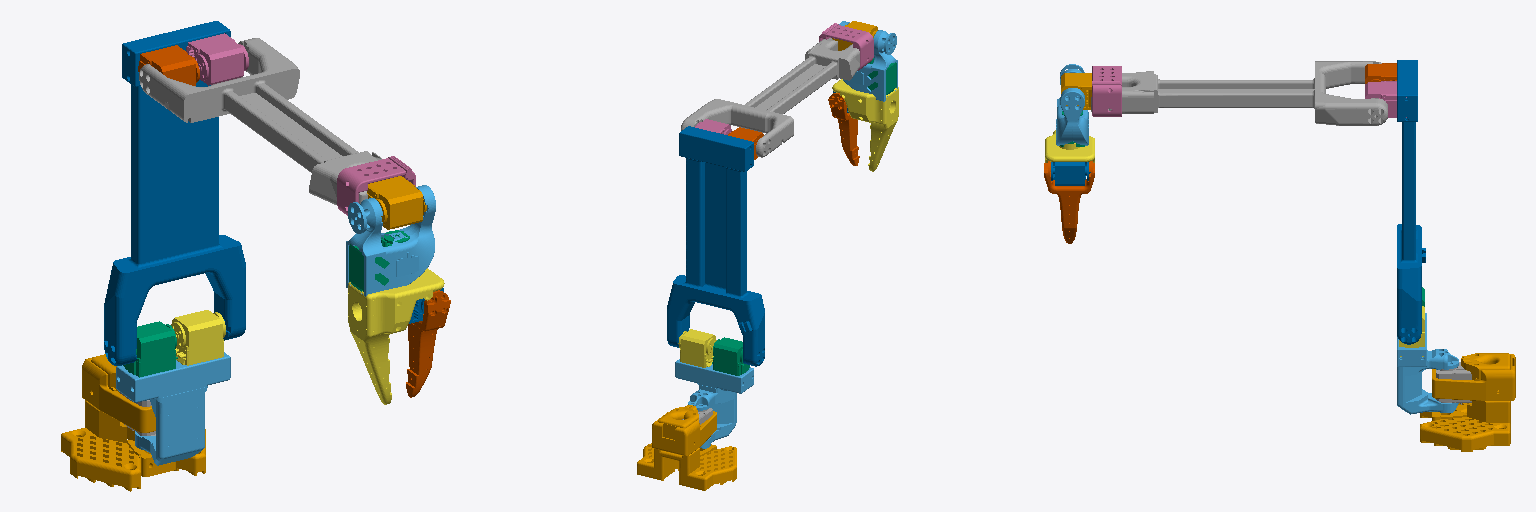
The robot description file, URDF, robot "PingTi_Arm":
<?xml version="1.0" ?>
<robot name="PingTi_Arm">

<material name="silver">
  <color rgba="0.700 0.700 0.700 1.000"/>
</material>

<link name="base_link">
  <inertial>
    <origin xyz="-3.294222799751554e-06 0.8236699206879414 0.07022225351061052" rpy="0 0 0"/>
    <mass value="1.1606702094747876"/>
    <inertia ixx="0.0011816813600861176" iyy="0.0012206576093825297" izz="0.001296311799127925" ixy="-3.3926552274509375e-08" iyz="-0.0002156356566367923" ixz="1.4358649204527133e-07"/>
  </inertial>
  <visual>
    <origin xyz="0 0 0" rpy="0 0 0"/>
    <geometry>
      <mesh filename="meshes/base_link.stl" scale="0.001 0.001 0.001"/>
    </geometry>
    <material name="silver"/>
    <material/>
  </visual>
  <collision>
    <origin xyz="0 0 0" rpy="0 0 0"/>
    <geometry>
      <mesh filename="meshes/base_link.stl" scale="0.001 0.001 0.001"/>
    </geometry>
  </collision>
</link>

<link name="rotation_base_framework1">
  <inertial>
    <origin xyz="-5.9390483128402e-05 -0.03104904373197548 0.03331281167283248" rpy="0 0 0"/>
    <mass value="0.6161657363738509"/>
    <inertia ixx="0.0004327216025152292" iyy="0.0004732006914074296" izz="0.0002414874177193438" ixy="4.6479073398302274e-07" iyz="2.5231853473681176e-05" ixz="-6.728374237754134e-07"/>
  </inertial>
  <visual>
    <origin xyz="0.0 -0.79488 -0.074498" rpy="0 0 0"/>
    <geometry>
      <mesh filename="meshes/rotation_base_framework1.stl" scale="0.001 0.001 0.001"/>
    </geometry>
    <material name="silver"/>
    <material/>
  </visual>
  <collision>
    <origin xyz="0.0 -0.79488 -0.074498" rpy="0 0 0"/>
    <geometry>
      <mesh filename="meshes/rotation_base_framework1.stl" scale="0.001 0.001 0.001"/>
    </geometry>
  </collision>
</link>

<link name="STS3215_rotation_base1">
  <inertial>
    <origin xyz="-0.00012706492472179531 3.433446726930356e-08 0.022398959558418058" rpy="0 0 0"/>
    <mass value="0.2843033831904074"/>
    <inertia ixx="6.153681935691657e-05" iyy="7.348827769135344e-05" izz="3.972527876480725e-05" ixy="-2.948943172986773e-14" iyz="4.015537902191113e-14" ixz="5.5689283665289e-07"/>
  </inertial>
  <visual>
    <origin xyz="0.020561 -0.76183 -0.132098" rpy="0 0 0"/>
    <geometry>
      <mesh filename="meshes/STS3215_rotation_base1.stl" scale="0.001 0.001 0.001"/>
    </geometry>
    <material name="silver"/>
    <material/>
  </visual>
  <collision>
    <origin xyz="0.020561 -0.76183 -0.132098" rpy="0 0 0"/>
    <geometry>
      <mesh filename="meshes/STS3215_rotation_base1.stl" scale="0.001 0.001 0.001"/>
    </geometry>
  </collision>
</link>

<link name="STS3215_rotation_base_21">
  <inertial>
    <origin xyz="0.00012706492472184389 3.432095774247301e-08 0.02239895955841617" rpy="0 0 0"/>
    <mass value="0.2843033831904074"/>
    <inertia ixx="6.153681935691657e-05" iyy="7.348827769135171e-05" izz="3.972527876475174e-05" ixy="-2.9488564368129744e-14" iyz="-4.01276234462955e-14" ixz="-5.568928366526732e-07"/>
  </inertial>
  <visual>
    <origin xyz="-0.020561 -0.76183 -0.132098" rpy="0 0 0"/>
    <geometry>
      <mesh filename="meshes/STS3215_rotation_base_21.stl" scale="0.001 0.001 0.001"/>
    </geometry>
    <material name="silver"/>
    <material/>
  </visual>
  <collision>
    <origin xyz="-0.020561 -0.76183 -0.132098" rpy="0 0 0"/>
    <geometry>
      <mesh filename="meshes/STS3215_rotation_base_21.stl" scale="0.001 0.001 0.001"/>
    </geometry>
  </collision>
</link>

<link name="shoulder_to_elbow1">
  <inertial>
    <origin xyz="-0.04090125621325043 -0.0014188104082279995 0.10718438504365507" rpy="0 0 0"/>
    <mass value="1.6997505320587314"/>
    <inertia ixx="0.008809654000502265" iyy="0.010432174349674889" izz="0.0017265330838114323" ixy="1.8353631067524008e-06" iyz="-5.7223775304926505e-06" ixz="-1.1021573115517563e-05"/>
  </inertial>
  <visual>
    <origin xyz="-0.040761 -0.760191 -0.167748" rpy="0 0 0"/>
    <geometry>
      <mesh filename="meshes/shoulder_to_elbow1.stl" scale="0.001 0.001 0.001"/>
    </geometry>
    <material name="silver"/>
    <material/>
  </visual>
  <collision>
    <origin xyz="-0.040761 -0.760191 -0.167748" rpy="0 0 0"/>
    <geometry>
      <mesh filename="meshes/shoulder_to_elbow1.stl" scale="0.001 0.001 0.001"/>
    </geometry>
  </collision>
</link>

<link name="STS3215_elbow_lift_11">
  <inertial>
    <origin xyz="-0.00012706520748722444 -0.022398814211436524 -1.6424232546219386e-07" rpy="0 0 0"/>
    <mass value="0.2843033831904074"/>
    <inertia ixx="6.153681935691657e-05" iyy="3.9725278764765615e-05" izz="7.348827769129707e-05" ixy="-5.568928366523479e-07" iyz="-4.013456234019941e-14" ixz="-2.948899804899874e-14"/>
  </inertial>
  <visual>
    <origin xyz="0.020622 -0.762571 -0.400541" rpy="0 0 0"/>
    <geometry>
      <mesh filename="meshes/STS3215_elbow_lift_11.stl" scale="0.001 0.001 0.001"/>
    </geometry>
    <material name="silver"/>
    <material/>
  </visual>
  <collision>
    <origin xyz="0.020622 -0.762571 -0.400541" rpy="0 0 0"/>
    <geometry>
      <mesh filename="meshes/STS3215_elbow_lift_11.stl" scale="0.001 0.001 0.001"/>
    </geometry>
  </collision>
</link>

<link name="STS3215_elbow_lift_21">
  <inertial>
    <origin xyz="0.00012706464195756315 -0.022398814211436746 -1.6425583526658016e-07" rpy="0 0 0"/>
    <mass value="0.2843033831904074"/>
    <inertia ixx="6.153681935697208e-05" iyy="3.972527876477949e-05" izz="7.348827769138033e-05" ixy="5.568928366523479e-07" iyz="4.0120684552391594e-14" ixz="-2.948899804899874e-14"/>
  </inertial>
  <visual>
    <origin xyz="-0.0205 -0.762571 -0.400541" rpy="0 0 0"/>
    <geometry>
      <mesh filename="meshes/STS3215_elbow_lift_21.stl" scale="0.001 0.001 0.001"/>
    </geometry>
    <material name="silver"/>
    <material/>
  </visual>
  <collision>
    <origin xyz="-0.0205 -0.762571 -0.400541" rpy="0 0 0"/>
    <geometry>
      <mesh filename="meshes/STS3215_elbow_lift_21.stl" scale="0.001 0.001 0.001"/>
    </geometry>
  </collision>
</link>

<link name="elbow_to_wrist1">
  <inertial>
    <origin xyz="-0.03228149965760949 -0.12872175078832537 -0.0007099875466193839" rpy="0 0 0"/>
    <mass value="1.323622551599331"/>
    <inertia ixx="0.009695747175915592" iyy="0.0008706495499018474" izz="0.010471813507346939" ixy="-0.00047444263704653905" iyz="-4.68962570436271e-05" ixz="-2.1501697507059214e-06"/>
  </inertial>
  <visual>
    <origin xyz="-0.0407 -0.727371 -0.400541" rpy="0 0 0"/>
    <geometry>
      <mesh filename="meshes/elbow_to_wrist1.stl" scale="0.001 0.001 0.001"/>
    </geometry>
    <material name="silver"/>
    <material/>
  </visual>
  <collision>
    <origin xyz="-0.0407 -0.727371 -0.400541" rpy="0 0 0"/>
    <geometry>
      <mesh filename="meshes/elbow_to_wrist1.stl" scale="0.001 0.001 0.001"/>
    </geometry>
  </collision>
</link>

<link name="STS3215_wrist_lift1">
  <inertial>
    <origin xyz="-0.01782687967247619 -0.012098628884651574 -1.6471350994251566e-07" rpy="0 0 0"/>
    <mass value="0.2843033831904074"/>
    <inertia ixx="6.15368193569582e-05" iyy="3.972527876477949e-05" izz="7.348827769136645e-05" ixy="-5.568928366529984e-07" iyz="-4.0141501234103316e-14" ixz="-2.948964857030223e-14"/>
  </inertial>
  <visual>
    <origin xyz="-0.023929 -0.461671 -0.402866" rpy="0 0 0"/>
    <geometry>
      <mesh filename="meshes/STS3215_wrist_lift1.stl" scale="0.001 0.001 0.001"/>
    </geometry>
    <material name="silver"/>
    <material/>
  </visual>
  <collision>
    <origin xyz="-0.023929 -0.461671 -0.402866" rpy="0 0 0"/>
    <geometry>
      <mesh filename="meshes/STS3215_wrist_lift1.stl" scale="0.001 0.001 0.001"/>
    </geometry>
  </collision>
</link>

<link name="Wrist_Roll_Pitch_08i1">
  <inertial>
    <origin xyz="0.014809966524319273 5.15030067164135e-05 -0.026380103880272898" rpy="0 0 0"/>
    <mass value="0.2392168278135931"/>
    <inertia ixx="0.00011529218614687864" iyy="0.00019975423729731712" izz="0.00012628740337444072" ixy="-4.1713915605379247e-08" iyz="-3.2238510277310395e-07" ixz="-6.71594654948386e-06"/>
  </inertial>
  <visual>
    <origin xyz="0.013971 -0.437221 -0.402416" rpy="0 0 0"/>
    <geometry>
      <mesh filename="meshes/Wrist_Roll_Pitch_08i1.stl" scale="0.001 0.001 0.001"/>
    </geometry>
    <material name="silver"/>
    <material/>
  </visual>
  <collision>
    <origin xyz="0.013971 -0.437221 -0.402416" rpy="0 0 0"/>
    <geometry>
      <mesh filename="meshes/Wrist_Roll_Pitch_08i1.stl" scale="0.001 0.001 0.001"/>
    </geometry>
  </collision>
</link>

<link name="STS3215_wrist_roll1">
  <inertial>
    <origin xyz="-0.012800787184544506 3.9867181089725534e-07 -0.018426685114597052" rpy="0 0 0"/>
    <mass value="0.2843033831904074"/>
    <inertia ixx="3.972527876477949e-05" iyy="7.348827769135258e-05" izz="6.153681935695127e-05" ixy="-4.0140200191496334e-14" iyz="2.949723798550963e-14" ixz="5.568928366526732e-07"/>
  </inertial>
  <visual>
    <origin xyz="-0.004129 -0.437221 -0.380195" rpy="0 0 0"/>
    <geometry>
      <mesh filename="meshes/STS3215_wrist_roll1.stl" scale="0.001 0.001 0.001"/>
    </geometry>
    <material name="silver"/>
    <material/>
  </visual>
  <collision>
    <origin xyz="-0.004129 -0.437221 -0.380195" rpy="0 0 0"/>
    <geometry>
      <mesh filename="meshes/STS3215_wrist_roll1.stl" scale="0.001 0.001 0.001"/>
    </geometry>
  </collision>
</link>

<link name="Wrist_Roll_08c1">
  <inertial>
    <origin xyz="-0.015652773080708077 -0.0013358137327671993 -0.0203053963206562" rpy="0 0 0"/>
    <mass value="0.44698022927880193"/>
    <inertia ixx="0.0003009649490412769" iyy="0.0003330307502686508" izz="0.00016593464746506026" ixy="-4.1210889843272275e-06" iyz="-1.111066423073459e-06" ixz="-5.571357694080306e-05"/>
  </inertial>
  <visual>
    <origin xyz="-0.005769 -0.436771 -0.341695" rpy="0 0 0"/>
    <geometry>
      <mesh filename="meshes/Wrist_Roll_08c1.stl" scale="0.001 0.001 0.001"/>
    </geometry>
    <material name="silver"/>
    <material/>
  </visual>
  <collision>
    <origin xyz="-0.005769 -0.436771 -0.341695" rpy="0 0 0"/>
    <geometry>
      <mesh filename="meshes/Wrist_Roll_08c1.stl" scale="0.001 0.001 0.001"/>
    </geometry>
  </collision>
</link>

<link name="STS3215_gripper1">
  <inertial>
    <origin xyz="0.022399481427145027 0.00012738736828515895 3.7980336964338335e-07" rpy="0 0 0"/>
    <mass value="0.2843033831904074"/>
    <inertia ixx="3.972527876477949e-05" iyy="6.15368193569478e-05" izz="7.348827769134564e-05" ixy="-5.568928366532153e-07" iyz="-2.949029909160572e-14" ixz="-4.014063387236533e-14"/>
  </inertial>
  <visual>
    <origin xyz="0.011121 -0.434492 -0.327295" rpy="0 0 0"/>
    <geometry>
      <mesh filename="meshes/STS3215_gripper1.stl" scale="0.001 0.001 0.001"/>
    </geometry>
    <material name="silver"/>
    <material/>
  </visual>
  <collision>
    <origin xyz="0.011121 -0.434492 -0.327295" rpy="0 0 0"/>
    <geometry>
      <mesh filename="meshes/STS3215_gripper1.stl" scale="0.001 0.001 0.001"/>
    </geometry>
  </collision>
</link>

<link name="Moving_Jaw_08d1">
  <inertial>
    <origin xyz="-0.0004999008270069223 -0.02078399771673567 -0.0292528368307568" rpy="0 0 0"/>
    <mass value="0.1586808414280307"/>
    <inertia ixx="8.673205684445878e-05" iyy="7.037496093636152e-05" izz="2.370390078658413e-05" ixy="8.253022754111695e-08" iyz="1.5105713859903114e-06" ixz="-4.1898743981573245e-06"/>
  </inertial>
  <visual>
    <origin xyz="-0.024079 -0.454692 -0.327295" rpy="0 0 0"/>
    <geometry>
      <mesh filename="meshes/Moving_Jaw_08d1.stl" scale="0.001 0.001 0.001"/>
    </geometry>
    <material name="silver"/>
    <material/>
  </visual>
  <collision>
    <origin xyz="-0.024079 -0.454692 -0.327295" rpy="0 0 0"/>
    <geometry>
      <mesh filename="meshes/Moving_Jaw_08d1.stl" scale="0.001 0.001 0.001"/>
    </geometry>
  </collision>
</link>

<link name="wrist_servo_fixer1">
  <inertial>
    <origin xyz="0.023150392016881474 -5.781115936165371e-05 0.0018440665079816343" rpy="0 0 0"/>
    <mass value="0.10853073755546008"/>
    <inertia ixx="2.681940887344636e-05" iyy="5.8243249697269295e-05" izz="4.591982320177601e-05" ixy="1.9180973510858016e-07" iyz="5.297613838578519e-08" ixz="-1.7483214372597143e-07"/>
  </inertial>
  <visual>
    <origin xyz="0.017371 -0.470171 -0.402541" rpy="0 0 0"/>
    <geometry>
      <mesh filename="meshes/wrist_servo_fixer1.stl" scale="0.001 0.001 0.001"/>
    </geometry>
    <material name="silver"/>
    <material/>
  </visual>
  <collision>
    <origin xyz="0.017371 -0.470171 -0.402541" rpy="0 0 0"/>
    <geometry>
      <mesh filename="meshes/wrist_servo_fixer1.stl" scale="0.001 0.001 0.001"/>
    </geometry>
  </collision>
</link>

<link name="STS3215_rotation_base_01">
  <inertial>
    <origin xyz="6.7522991337791345e-12 0.023001006764512555 0.00012699691993646456" rpy="0 0 0"/>
    <mass value="0.2843033831904074"/>
    <inertia ixx="7.348827769135258e-05" iyy="3.972527876478296e-05" izz="6.153681935691657e-05" ixy="-4.0140321707018876e-14" iyz="5.568928366471437e-07" ixz="2.948943618495333e-14"/>
  </inertial>
  <visual>
    <origin xyz="0.0 -0.78468 -0.092798" rpy="0 0 0"/>
    <geometry>
      <mesh filename="meshes/STS3215_rotation_base_01.stl" scale="0.001 0.001 0.001"/>
    </geometry>
    <material name="silver"/>
    <material/>
  </visual>
  <collision>
    <origin xyz="0.0 -0.78468 -0.092798" rpy="0 0 0"/>
    <geometry>
      <mesh filename="meshes/STS3215_rotation_base_01.stl" scale="0.001 0.001 0.001"/>
    </geometry>
  </collision>
</link>

<joint name="rotation_pitch_rotation_servo" type="revolute">
  <origin xyz="0.0 0.0102 -0.0183" rpy="0 0 0"/>
  <parent link="STS3215_rotation_base_01"/>
  <child link="rotation_base_framework1"/>
  <axis xyz="0.0 0.0 -1.0"/>
  <limit upper="2.094395" lower="0.0" effort="100" velocity="100"/>
</joint>
<transmission name="rotation_pitch_rotation_servo_tran">
  <type>transmission_interface/SimpleTransmission</type>
  <joint name="rotation_pitch_rotation_servo">
    <hardwareInterface>PositionJointInterface</hardwareInterface>
  </joint>
  <actuator name="rotation_pitch_rotation_servo_actr">
    <hardwareInterface>PositionJointInterface</hardwareInterface>
    <mechanicalReduction>1</mechanicalReduction>
  </actuator>
</transmission>

<joint name="rotation_pitch_shoulder_servo_1" type="fixed">
  <origin xyz="-0.020561 -0.03305 0.0576" rpy="0 0 0"/>
  <parent link="rotation_base_framework1"/>
  <child link="STS3215_rotation_base1"/>
</joint>

<joint name="rotation_pitch_shoulder_servo_2" type="fixed">
  <origin xyz="0.020561 -0.03305 0.0576" rpy="0 0 0"/>
  <parent link="rotation_base_framework1"/>
  <child link="STS3215_rotation_base_21"/>
</joint>

<joint name="shoulder_link_shoulder_servo" type="revolute">
  <origin xyz="0.0202 -0.001639 0.03565" rpy="0 0 0"/>
  <parent link="STS3215_rotation_base_21"/>
  <child link="shoulder_to_elbow1"/>
  <axis xyz="1.0 -0.0 0.0"/>
  <limit upper="2.007129" lower="-2.007129" effort="100" velocity="100"/>
</joint>
<transmission name="shoulder_link_shoulder_servo_tran">
  <type>transmission_interface/SimpleTransmission</type>
  <joint name="shoulder_link_shoulder_servo">
    <hardwareInterface>PositionJointInterface</hardwareInterface>
  </joint>
  <actuator name="shoulder_link_shoulder_servo_actr">
    <hardwareInterface>PositionJointInterface</hardwareInterface>
    <mechanicalReduction>1</mechanicalReduction>
  </actuator>
</transmission>

<joint name="elbow_pitch_elbow_servo_1" type="fixed">
  <origin xyz="-0.061383 0.00238 0.232793" rpy="0 0 0"/>
  <parent link="shoulder_to_elbow1"/>
  <child link="STS3215_elbow_lift_11"/>
</joint>

<joint name="elbow_pitch_elbow_servo_2" type="fixed">
  <origin xyz="-0.020261 0.00238 0.232793" rpy="0 0 0"/>
  <parent link="shoulder_to_elbow1"/>
  <child link="STS3215_elbow_lift_21"/>
</joint>

<joint name="elbow_link_elbow_servo" type="revolute">
  <origin xyz="0.0202 -0.0352 0.0" rpy="0 0 0"/>
  <parent link="STS3215_elbow_lift_21"/>
  <child link="elbow_to_wrist1"/>
  <axis xyz="-1.0 -0.0 -0.0"/>
  <limit upper="1.919862" lower="-1.570796" effort="100" velocity="100"/>
</joint>
<transmission name="elbow_link_elbow_servo_tran">
  <type>transmission_interface/SimpleTransmission</type>
  <joint name="elbow_link_elbow_servo">
    <hardwareInterface>PositionJointInterface</hardwareInterface>
  </joint>
  <actuator name="elbow_link_elbow_servo_actr">
    <hardwareInterface>PositionJointInterface</hardwareInterface>
    <mechanicalReduction>1</mechanicalReduction>
  </actuator>
</transmission>

<joint name="wrist_pitch_wrist_servo" type="fixed">
  <origin xyz="-0.016771 -0.2657 0.002325" rpy="0 0 0"/>
  <parent link="elbow_to_wrist1"/>
  <child link="STS3215_wrist_lift1"/>
</joint>

<joint name="wrist_roll_pitch_wrist_lift_servo" type="revolute">
  <origin xyz="-0.0379 -0.02445 -0.00045" rpy="0 0 0"/>
  <parent link="STS3215_wrist_lift1"/>
  <child link="Wrist_Roll_Pitch_08i1"/>
  <axis xyz="-1.0 0.0 -0.0"/>
  <limit upper="1.919862" lower="-1.919862" effort="100" velocity="100"/>
</joint>
<transmission name="wrist_roll_pitch_wrist_lift_servo_tran">
  <type>transmission_interface/SimpleTransmission</type>
  <joint name="wrist_roll_pitch_wrist_lift_servo">
    <hardwareInterface>PositionJointInterface</hardwareInterface>
  </joint>
  <actuator name="wrist_roll_pitch_wrist_lift_servo_actr">
    <hardwareInterface>PositionJointInterface</hardwareInterface>
    <mechanicalReduction>1</mechanicalReduction>
  </actuator>
</transmission>

<joint name="wrist_roll_pitch_roll_servo_connect" type="fixed">
  <origin xyz="0.0181 0.0 -0.022221" rpy="0 0 0"/>
  <parent link="Wrist_Roll_Pitch_08i1"/>
  <child link="STS3215_wrist_roll1"/>
</joint>

<joint name="wrist_roll_servo" type="continuous">
  <origin xyz="0.00164 -0.00045 -0.0385" rpy="0 0 0"/>
  <parent link="STS3215_wrist_roll1"/>
  <child link="Wrist_Roll_08c1"/>
  <axis xyz="0.0 0.0 -1.0"/>
</joint>
<transmission name="wrist_roll_servo_tran">
  <type>transmission_interface/SimpleTransmission</type>
  <joint name="wrist_roll_servo">
    <hardwareInterface>PositionJointInterface</hardwareInterface>
  </joint>
  <actuator name="wrist_roll_servo_actr">
    <hardwareInterface>PositionJointInterface</hardwareInterface>
    <mechanicalReduction>1</mechanicalReduction>
  </actuator>
</transmission>

<joint name="gripper_pitch_servo_connect" type="fixed">
  <origin xyz="-0.01689 -0.002279 -0.0144" rpy="0 0 0"/>
  <parent link="Wrist_Roll_08c1"/>
  <child link="STS3215_gripper1"/>
</joint>

<joint name="gripper_open_closing" type="revolute">
  <origin xyz="0.0352 0.0202 0.0" rpy="0 0 0"/>
  <parent link="STS3215_gripper1"/>
  <child link="Moving_Jaw_08d1"/>
  <axis xyz="0.0 -1.0 -0.0"/>
  <limit upper="1.570796" lower="-0.20944" effort="100" velocity="100"/>
</joint>
<transmission name="gripper_open_closing_tran">
  <type>transmission_interface/SimpleTransmission</type>
  <joint name="gripper_open_closing">
    <hardwareInterface>PositionJointInterface</hardwareInterface>
  </joint>
  <actuator name="gripper_open_closing_actr">
    <hardwareInterface>PositionJointInterface</hardwareInterface>
    <mechanicalReduction>1</mechanicalReduction>
  </actuator>
</transmission>

<joint name="Rigid_15" type="fixed">
  <origin xyz="-0.058071 -0.2572 0.002" rpy="0 0 0"/>
  <parent link="elbow_to_wrist1"/>
  <child link="wrist_servo_fixer1"/>
</joint>

<joint name="Rigid_16" type="fixed">
  <origin xyz="0.0 0.78468 0.092798" rpy="0 0 0"/>
  <parent link="base_link"/>
  <child link="STS3215_rotation_base_01"/>
</joint>

</robot>

--- What the picture shows (computed from the rendered views, not written in the file) ---
3 views of the same robot in one strip: view 1: azimuth 30°, elevation 25°; view 2: azimuth 150°, elevation 25°; view 3: azimuth 270°, elevation 25° (orthographic).
Model PingTi_Arm with 16 links and 15 joints (5 revolute, 1 continuous, 9 fixed), rooted at base_link, posed every joint at zero.
Links seen in each view (by area): view 1: shoulder_to_elbow1, elbow_to_wrist1, base_link, rotation_base_framework1, Wrist_Roll_Pitch_08i1, Wrist_Roll_08c1, Moving_Jaw_08d1, STS3215_rotation_base_21, STS3215_elbow_lift_21, STS3215_wrist_lift1, STS3215_rotation_base1, wrist_servo_fixer1 (+2 smaller); view 2: shoulder_to_elbow1, elbow_to_wrist1, base_link, rotation_base_framework1, Wrist_Roll_08c1, Wrist_Roll_Pitch_08i1, STS3215_rotation_base_21, Moving_Jaw_08d1, STS3215_rotation_base1, wrist_servo_fixer1; view 3: elbow_to_wrist1, base_link, shoulder_to_elbow1, rotation_base_framework1, Wrist_Roll_Pitch_08i1, wrist_servo_fixer1, Moving_Jaw_08d1, Wrist_Roll_08c1, STS3215_gripper1, STS3215_elbow_lift_21, STS3215_wrist_lift1, STS3215_elbow_lift_11.
Boxes of the visible links, <box> form: shoulder_to_elbow1: <box>104,21,245,365</box>; elbow_to_wrist1: <box>139,38,381,204</box>; base_link: <box>61,354,205,491</box>; rotation_base_framework1: <box>116,352,230,465</box>; Wrist_Roll_Pitch_08i1: <box>346,185,435,296</box>; Wrist_Roll_08c1: <box>348,268,444,404</box>; Moving_Jaw_08d1: <box>406,290,450,397</box>; STS3215_rotation_base_21: <box>171,310,225,365</box>; STS3215_elbow_lift_21: <box>186,33,248,85</box>; STS3215_wrist_lift1: <box>367,176,426,229</box>; STS3215_rotation_base1: <box>123,321,177,377</box>; wrist_servo_fixer1: <box>337,156,415,215</box>; shoulder_to_elbow1: <box>667,126,764,366</box>; elbow_to_wrist1: <box>681,38,859,157</box>; base_link: <box>637,405,736,490</box>; rotation_base_framework1: <box>675,359,753,448</box>; Wrist_Roll_08c1: <box>832,79,898,171</box>; Wrist_Roll_Pitch_08i1: <box>839,21,897,101</box>; STS3215_rotation_base_21: <box>678,329,716,367</box>; Moving_Jaw_08d1: <box>828,93,859,165</box>; STS3215_rotation_base1: <box>712,337,749,375</box>; wrist_servo_fixer1: <box>819,23,873,70</box>; elbow_to_wrist1: <box>1091,61,1387,125</box>; base_link: <box>1420,353,1515,451</box>; shoulder_to_elbow1: <box>1397,60,1425,344</box>; rotation_base_framework1: <box>1397,313,1458,414</box>; Wrist_Roll_Pitch_08i1: <box>1056,64,1088,145</box>; wrist_servo_fixer1: <box>1092,66,1121,116</box>; Moving_Jaw_08d1: <box>1044,161,1094,243</box>; Wrist_Roll_08c1: <box>1045,130,1094,162</box>; STS3215_gripper1: <box>1051,162,1090,185</box>; STS3215_elbow_lift_21: <box>1365,81,1406,117</box>; STS3215_wrist_lift1: <box>1061,73,1091,109</box>; STS3215_elbow_lift_11: <box>1365,63,1396,83</box>.
Size in the robot's own frame: 0.1136 by 0.4506 by 0.3771 metres.
16 mesh visuals loaded from 16 distinct referenced files (16 binary STL).